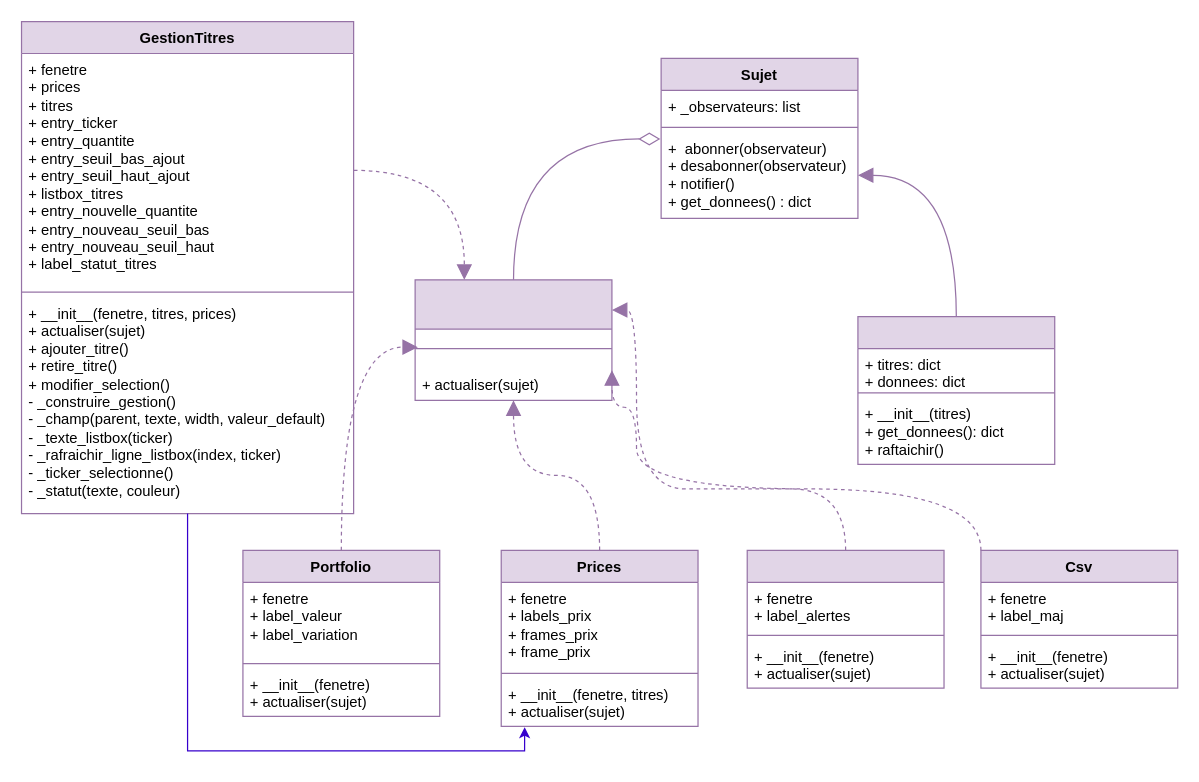
Some shapes in this 1199 by 782 pixel diagram are drawn without their labels. The shapes that lost their labels are listed below. From the top down, each one's box as (x1, y1, x2, y2) in pixels, then its label:
(414, 279, 612, 400): << interface>> Observateur
(857, 315, 1055, 464): Portefeuille
(746, 549, 944, 688): Alerts
